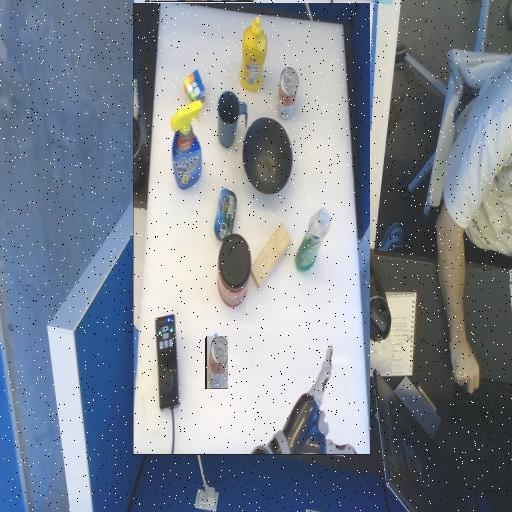bowl: (212, 275, 261, 323)
cleanser: (174, 200, 209, 234)
coffee_can: (254, 149, 286, 221)
jaco: (145, 3, 253, 108)
meat_can: (268, 216, 289, 267)
mug: (258, 309, 286, 363)
mustard_bottle: (239, 365, 263, 437)
rubik: (299, 359, 320, 380)
soup_can: (206, 338, 227, 389), (207, 336, 227, 388)
windex: (302, 268, 333, 355)
wooden_block: (213, 166, 253, 232)
workspace: (134, 3, 370, 454)
